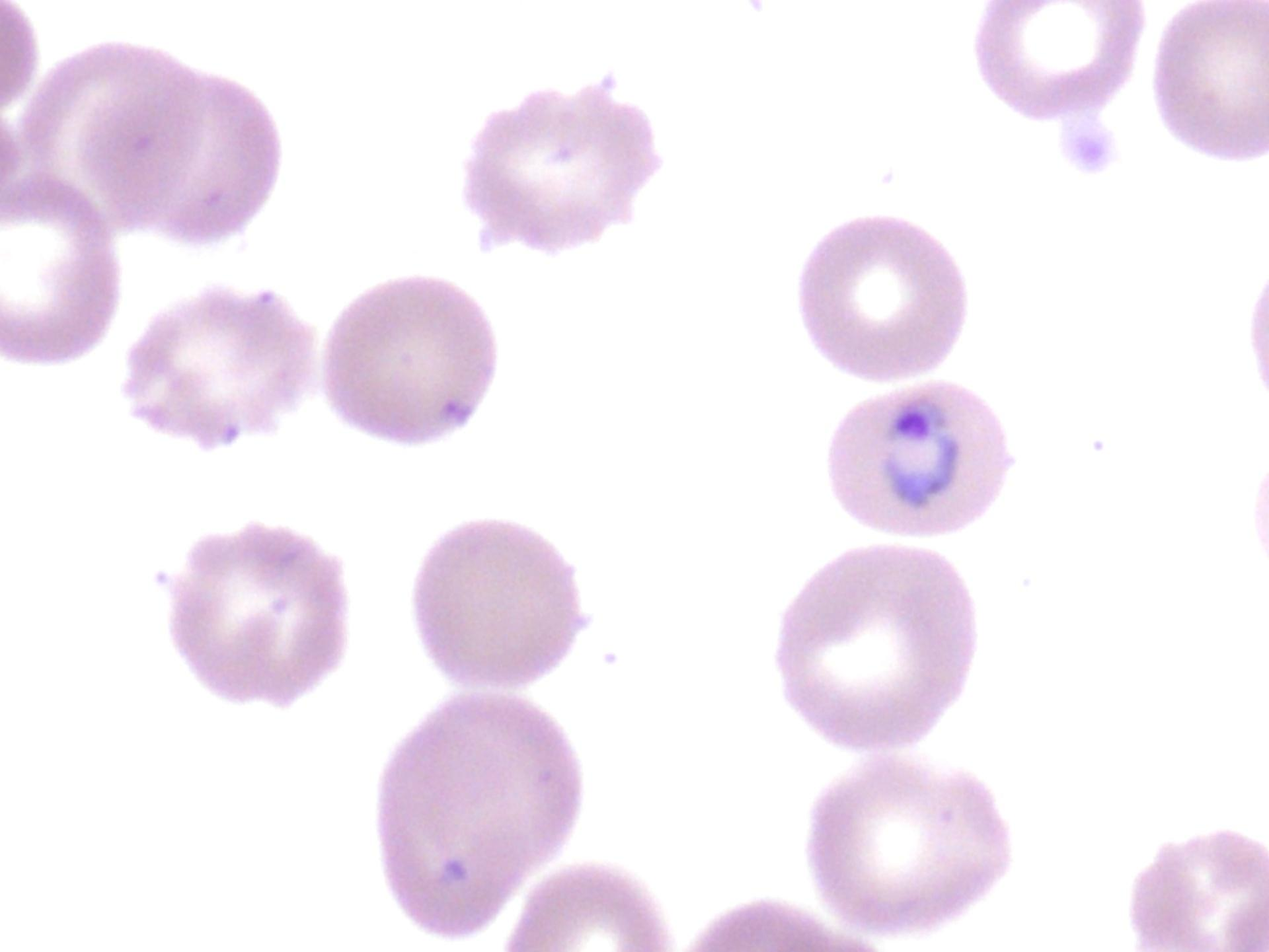Infected: (828, 384, 1010, 533)
Uninfected: (370, 696, 583, 932), (775, 544, 976, 749), (456, 71, 658, 258), (26, 42, 209, 241), (83, 68, 278, 246), (165, 526, 353, 704), (119, 281, 320, 447), (809, 767, 1009, 929), (322, 279, 493, 447), (410, 526, 578, 690), (800, 217, 966, 381), (0, 175, 120, 364), (972, 0, 1142, 122), (1153, 0, 1269, 164), (1130, 833, 1269, 952)
